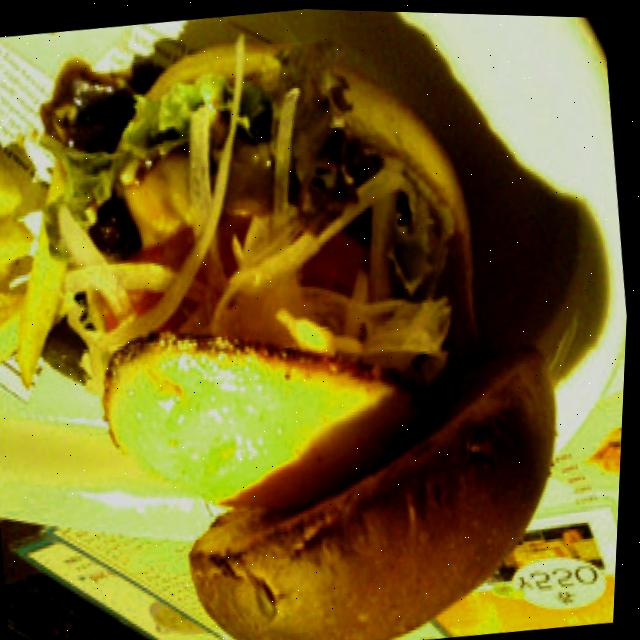汉堡快餐: (40, 1, 601, 640)
